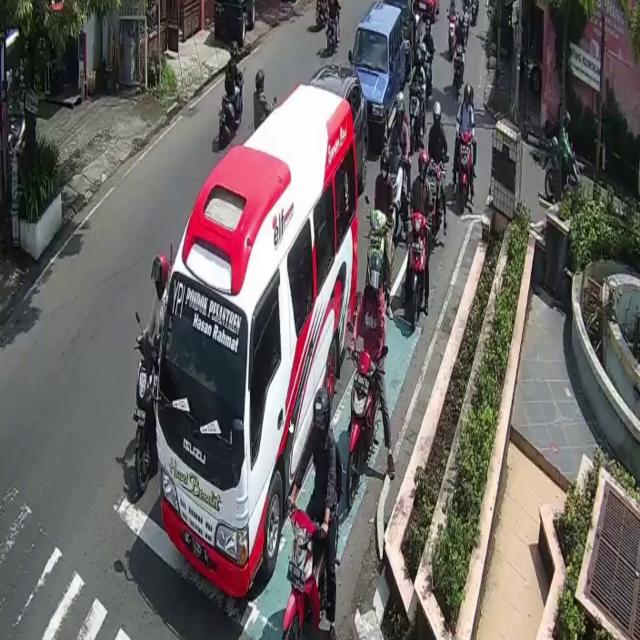bus: (157, 82, 358, 594)
car: (351, 0, 407, 144), (312, 62, 370, 184), (399, 0, 424, 69)
motorbike: (285, 501, 332, 640), (349, 347, 380, 502), (134, 344, 159, 492), (545, 138, 582, 222), (363, 209, 390, 312), (409, 216, 427, 329), (219, 73, 243, 146), (458, 132, 473, 216), (410, 83, 420, 145), (325, 8, 340, 49), (456, 40, 466, 100)
